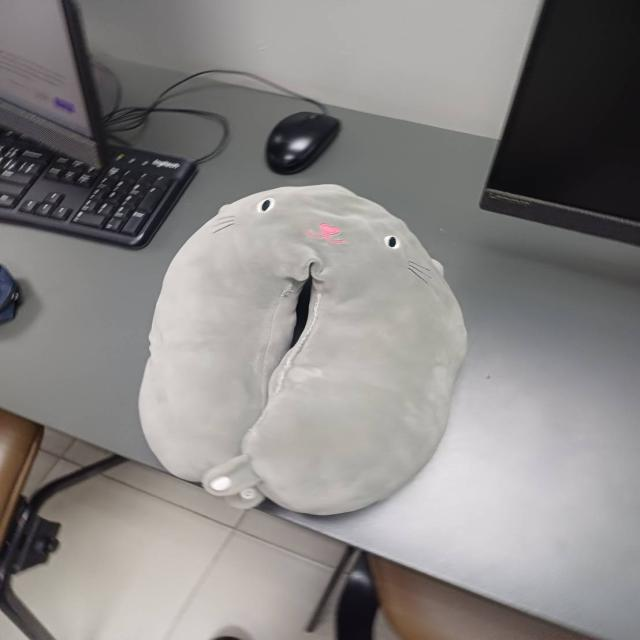pillow: (136, 180, 473, 525)
